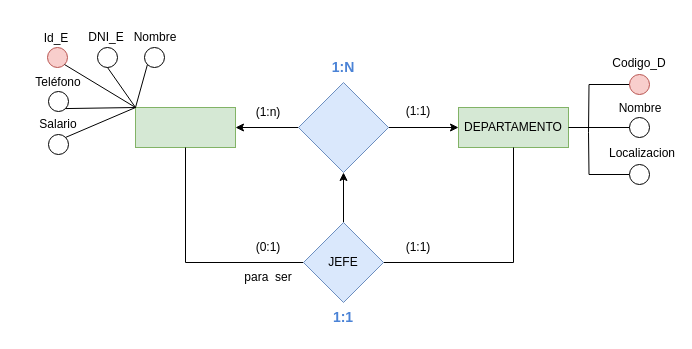
Image size: 692x349. Some labels were removed from this diagram. Here are the shapes that lost their labels. From the top down, the centre of each, then its label:
At point 185,127: "EMPLEADO".
At point 343,127: "PERTENECER".
